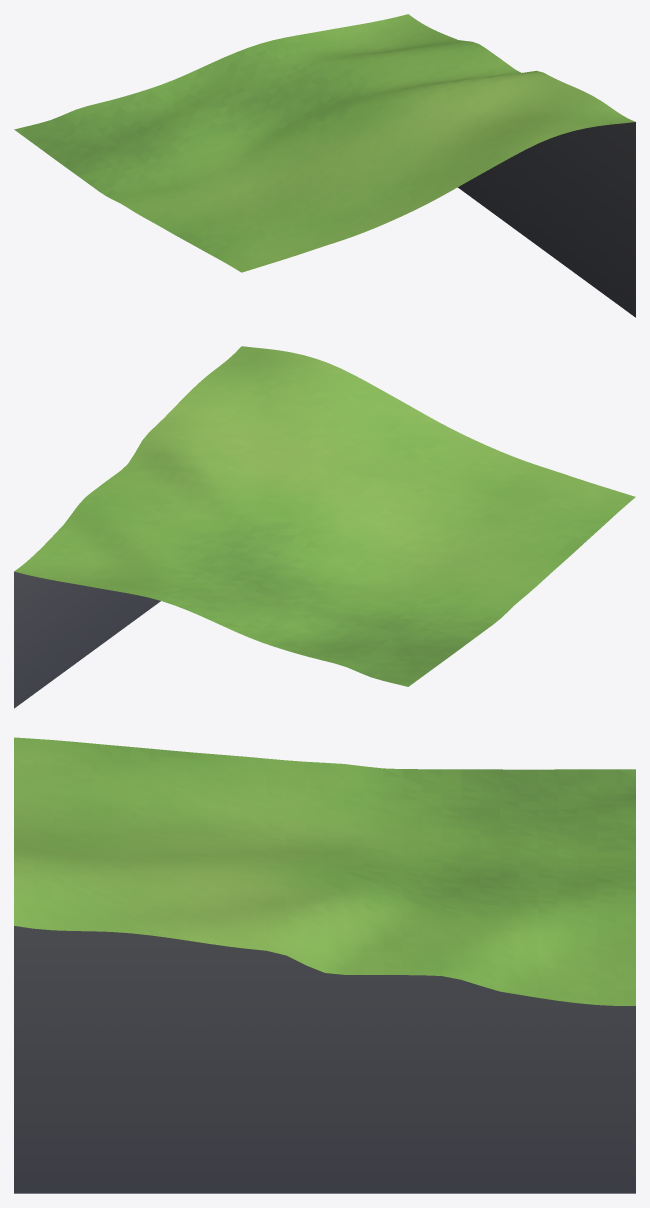
The model's file is terrain_r2_c5.glb.
3 views of the same model, one above another, from view 1: azimuth 30°, elevation 25°; view 2: azimuth 150°, elevation 25°; view 3: azimuth 270°, elevation 25° (orthographic). The views are drawn at different scales.
Parts seen in each view (by area): view 1: terrain_r2_c5; view 2: terrain_r2_c5; view 3: terrain_r2_c5.
Part boxes in pixels (<box>): terrain_r2_c5: <box>14,14,635,317</box>; terrain_r2_c5: <box>14,346,635,708</box>; terrain_r2_c5: <box>14,737,635,1193</box>.
Bounding box in the file's own units: 128 × 62.7 × 128.
Materials: 1 (1 with a texture image).
